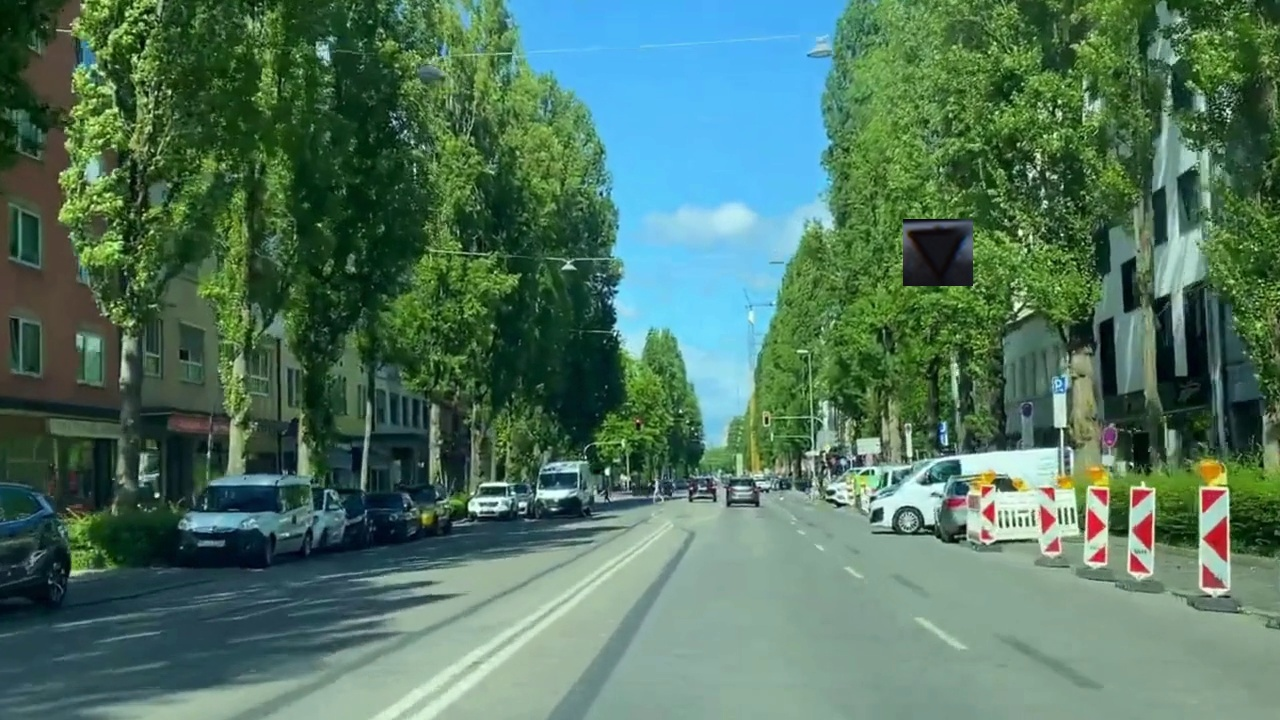Yield: (903, 219, 973, 286)
